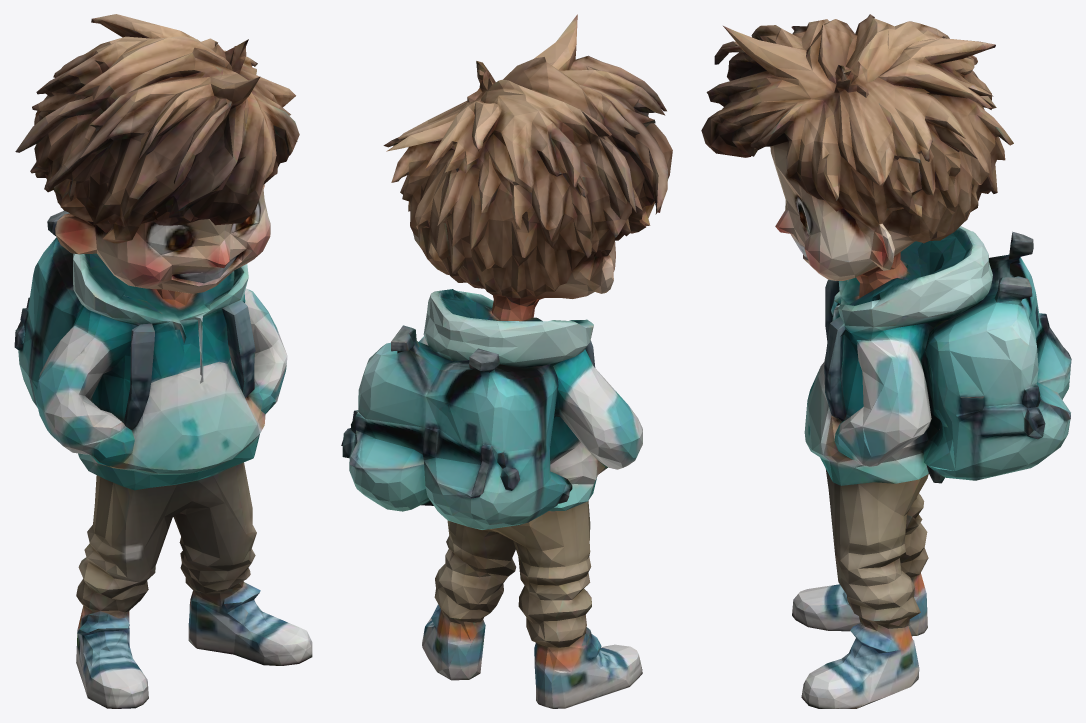
File: pixel.glb
The picture shows the model from 3 angles, left to right: view 1: azimuth 30°, elevation 25°; view 2: azimuth 150°, elevation 25°; view 3: azimuth 270°, elevation 25°; orthographic projection. The views are drawn at different scales.
Visible parts, largest first — view 1: world; view 2: world; view 3: world.
Part boxes in pixels (x1=…): world: x1=14, y1=14, x2=312, y2=708; world: x1=341, y1=14, x2=672, y2=708; world: x1=701, y1=14, x2=1071, y2=708.
Bounding box in the file's own units: 0.4368 × 0.9937 × 0.5239.
Materials: 1 (1 with a texture image).
